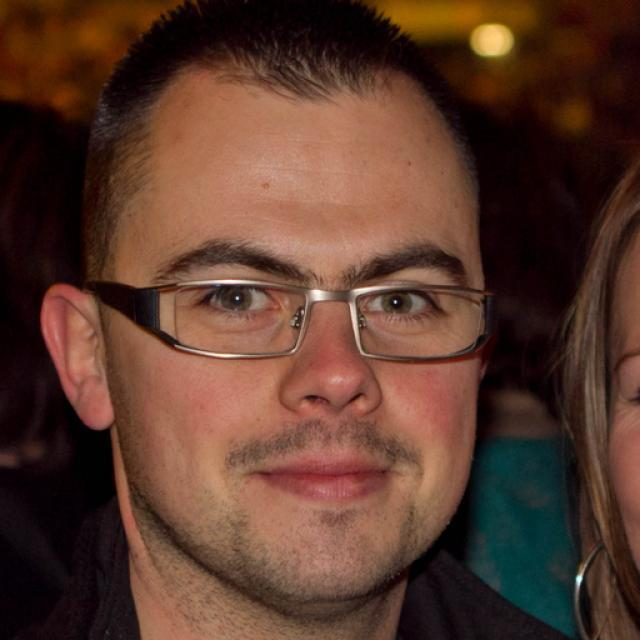content: (96, 46, 487, 608)
